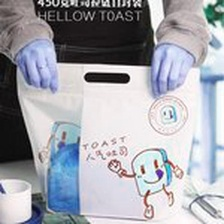snack: (10, 55, 206, 223)
